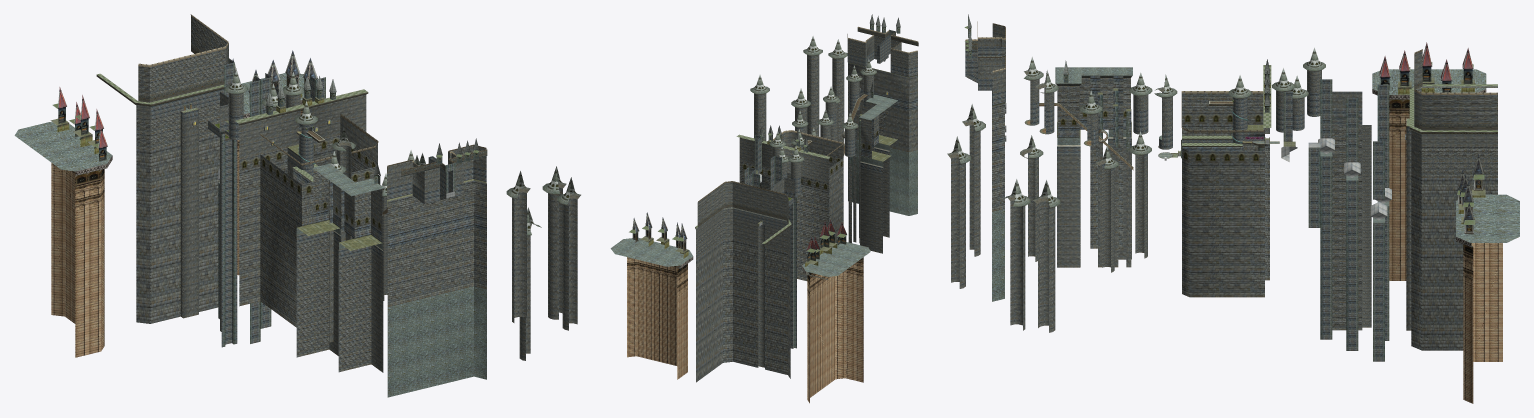
Rendered from Hang Castle 4.fbx.
3 renders of one model, left to right at view 1: azimuth 30°, elevation 25°; view 2: azimuth 150°, elevation 25°; view 3: azimuth 270°, elevation 25°, orthographic. The views are drawn at different scales.
Visible parts, largest first — view 1: Object_2.011; view 2: Object_2.011; view 3: Object_2.011, Object_2.010.
Part boxes in pixels (<box>): Object_2.011: <box>14,14,580,397</box>; Object_2.011: <box>610,14,918,403</box>; Object_2.011: <box>947,14,1519,403</box>; Object_2.010: <box>1182,101,1279,145</box>.
Size of the model in its own units: 783561 by 726000 by 1154373.
